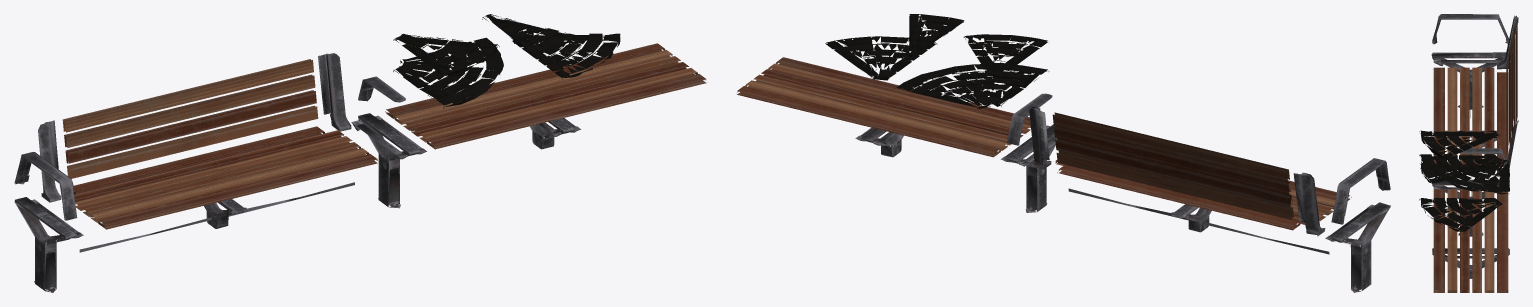
File: ph_modular_street_seating.fbx
The picture shows the model from 3 angles, left to right: view 1: azimuth 30°, elevation 25°; view 2: azimuth 150°, elevation 25°; view 3: azimuth 270°, elevation 25°; orthographic projection. The views are drawn at different scales.
Parts seen in each view (by area): view 1: ph_modular_street_seating_LOD0; view 2: ph_modular_street_seating_LOD0; view 3: ph_modular_street_seating_LOD0.
Part boxes in pixels (x1,y1,x2,y2): ph_modular_street_seating_LOD0: (14, 14, 707, 292); ph_modular_street_seating_LOD0: (737, 14, 1390, 292); ph_modular_street_seating_LOD0: (1419, 14, 1518, 292).
Size of what is drawn, in the model's own units: 4.34 by 0.9571 by 0.7681.
1 material, 1 textured.
